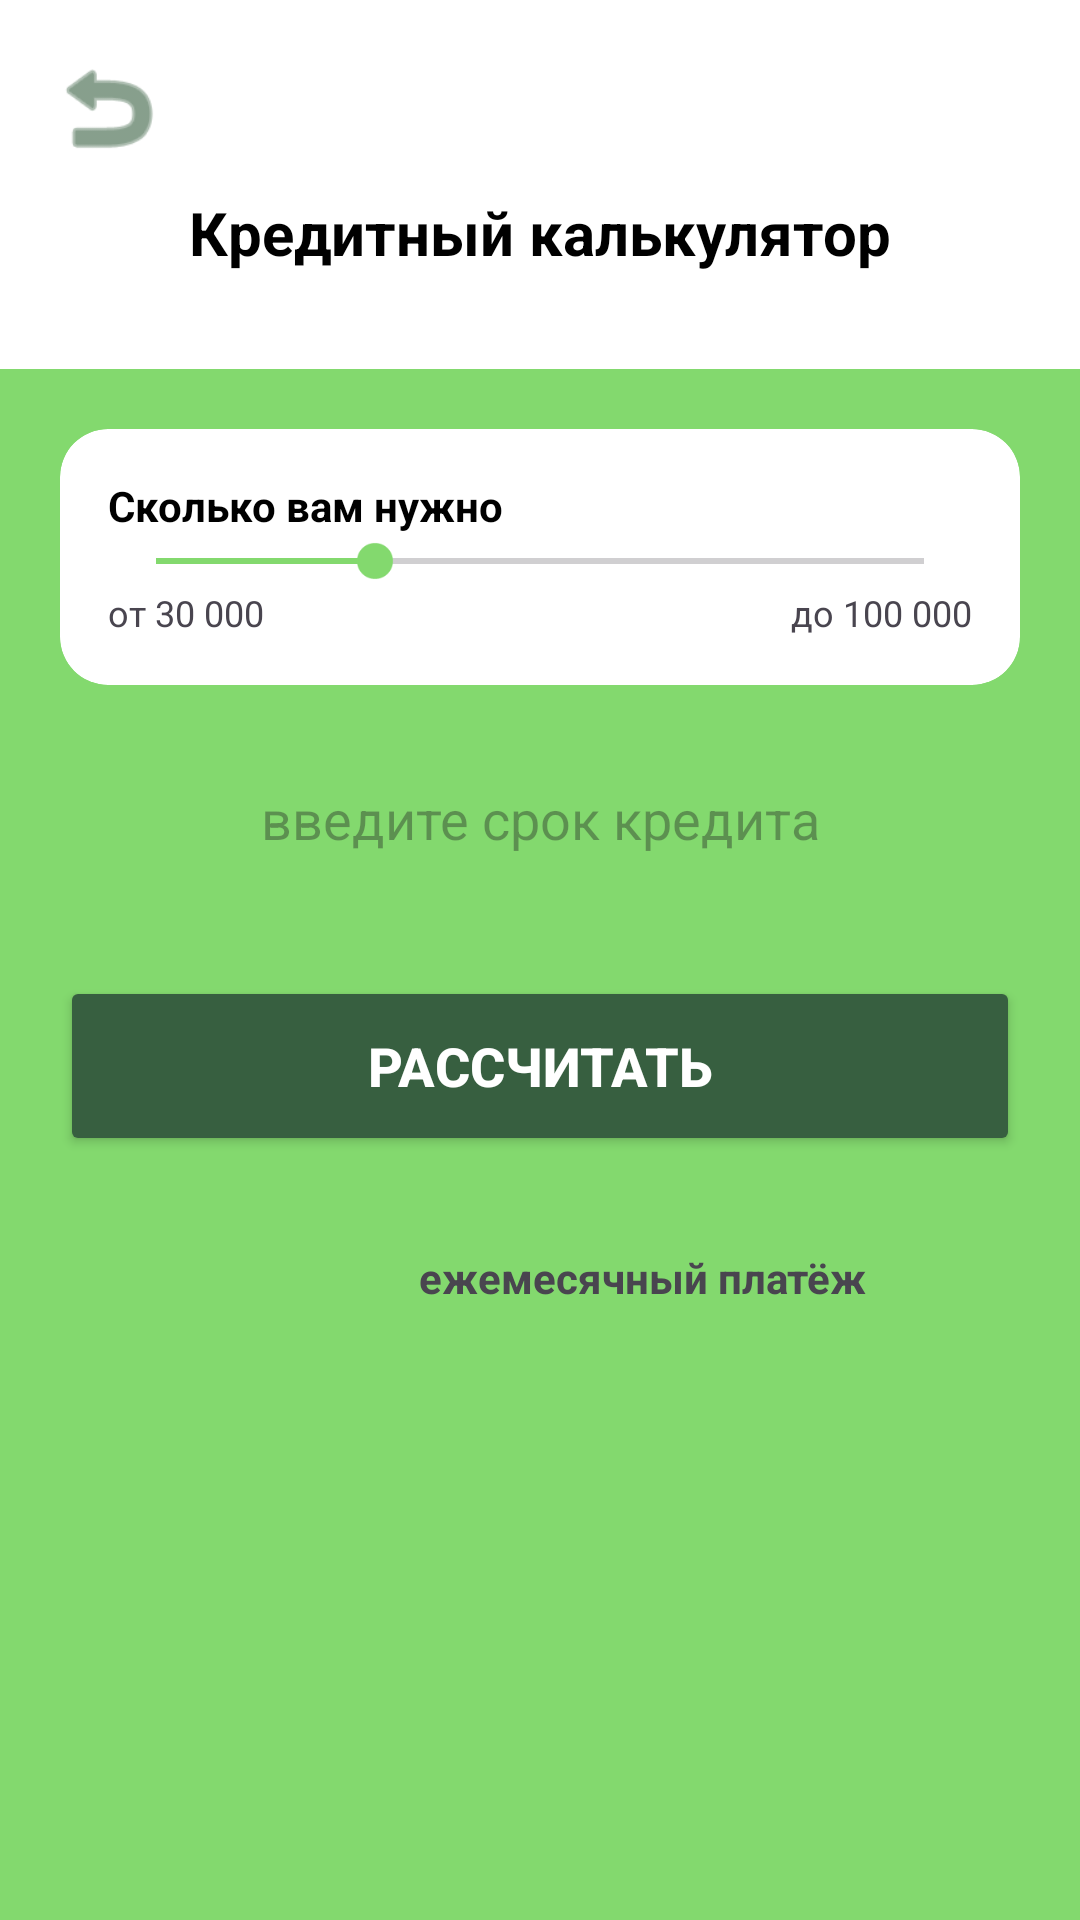

Icon bounding boxes for this 1080×1920 phone screenshot, format (x1, y1, x2, y2):
revert: (66, 70, 153, 148)
